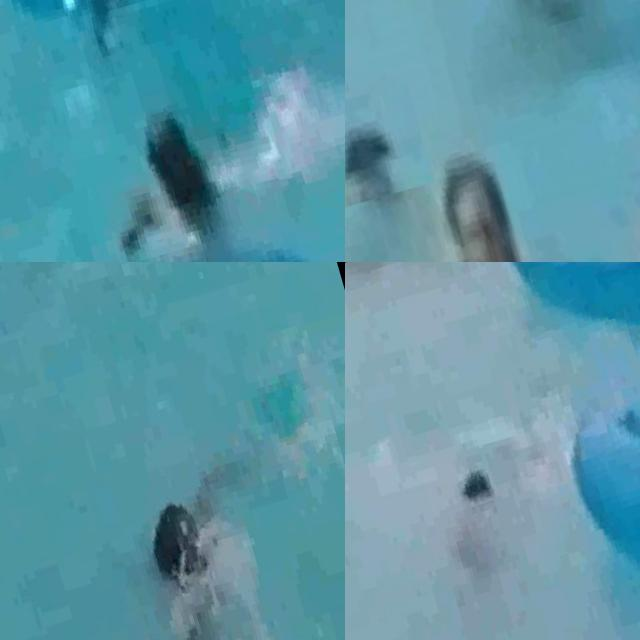drowning: (353, 373, 601, 640), (58, 51, 345, 262), (70, 419, 329, 640), (345, 76, 434, 213)
swimming: (429, 169, 531, 262)
